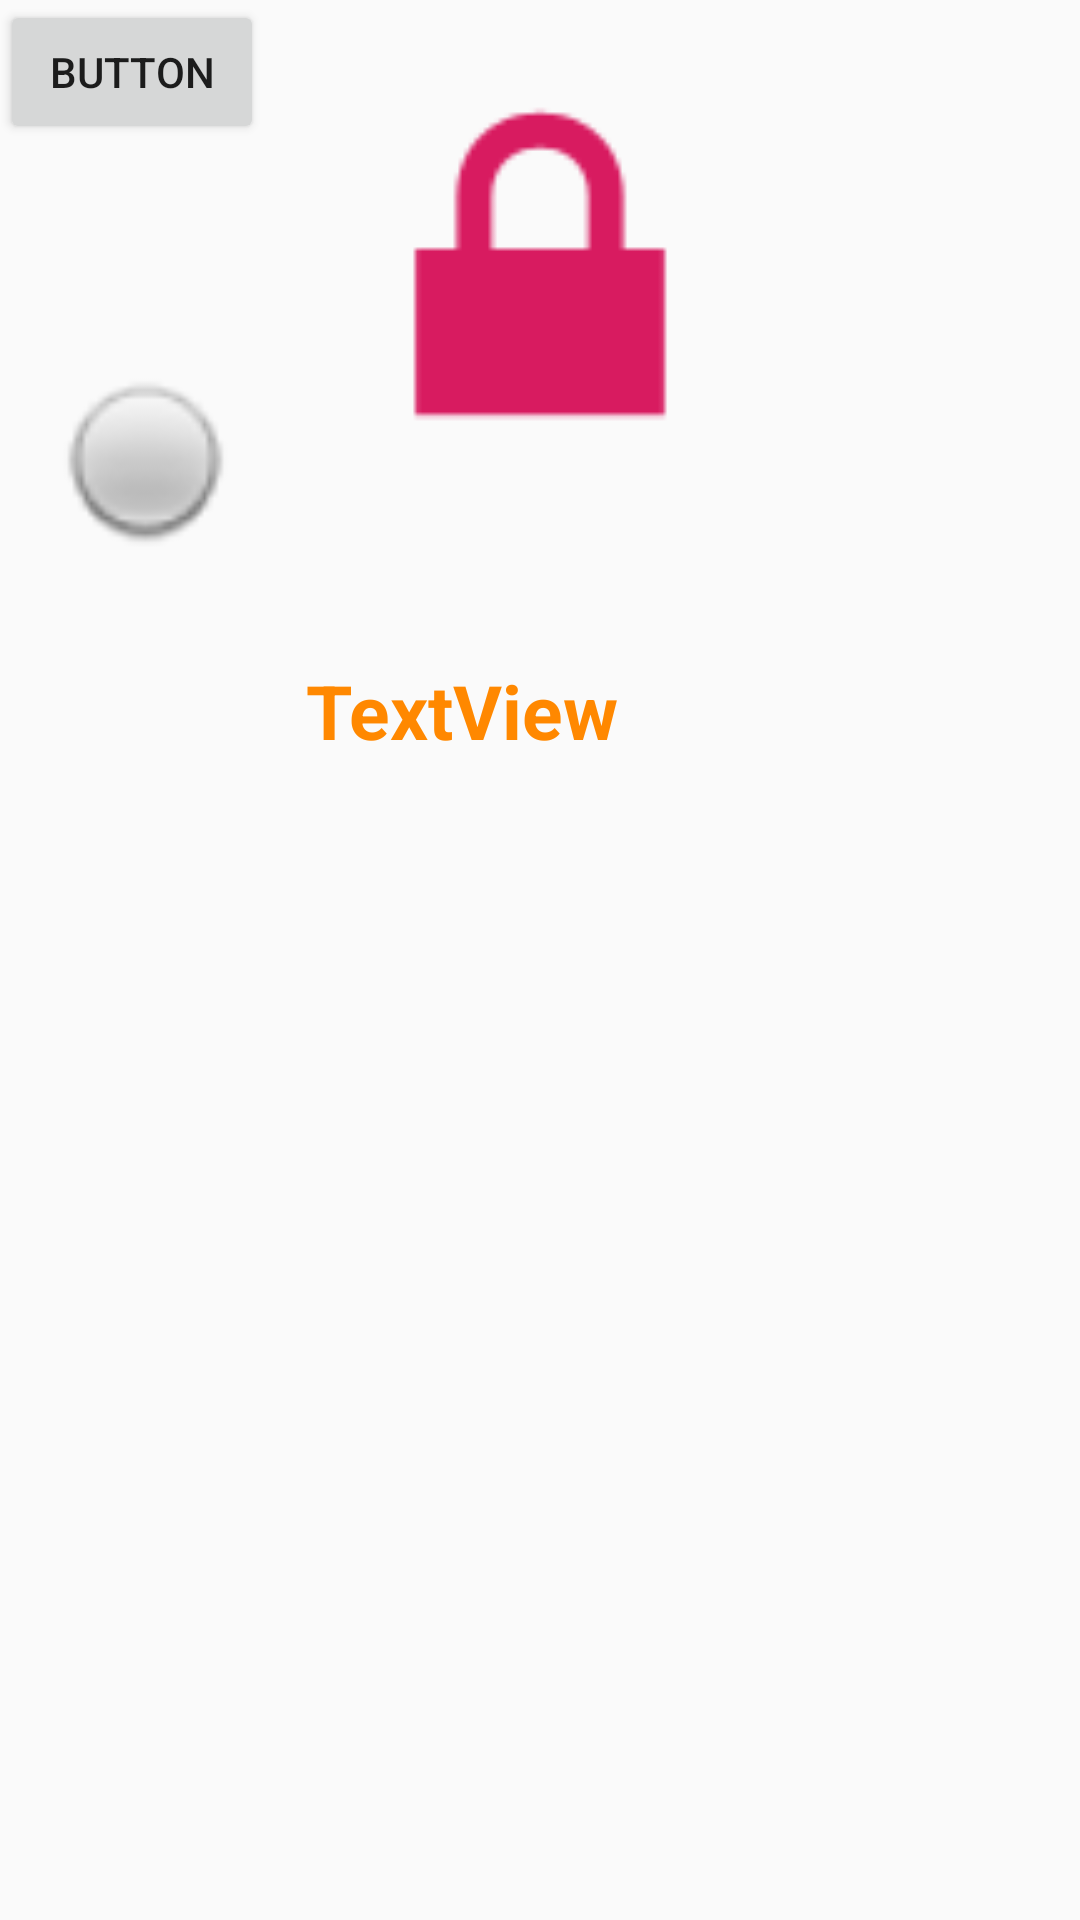

Icon click points for this 1080w x 1920h phone screenshot, format (x,y):
lock: (540,264)
